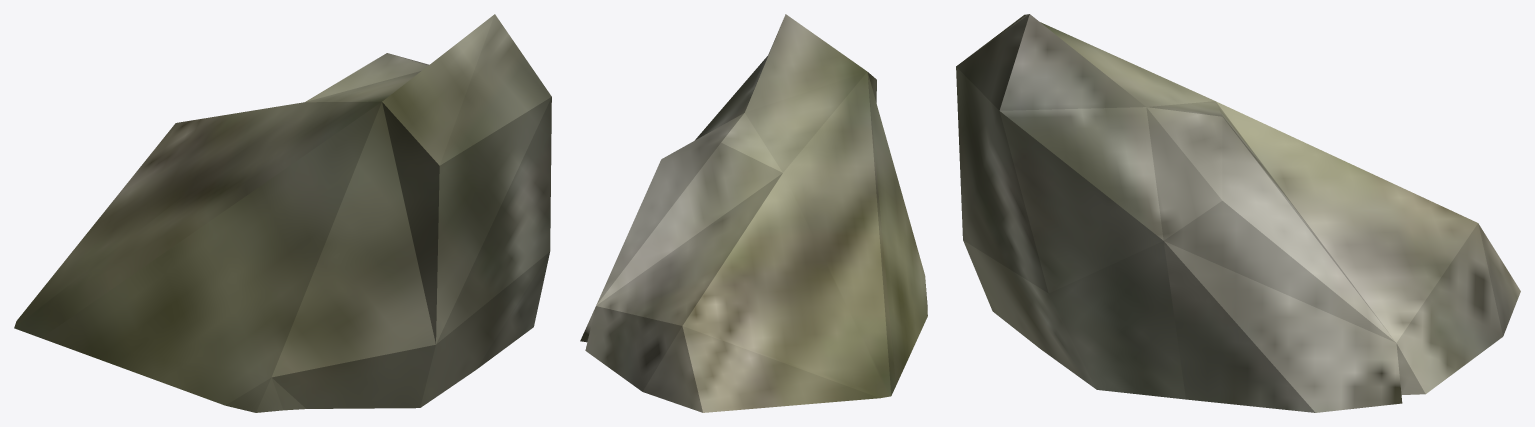
The picture shows the model from 3 angles, left to right: view 1: azimuth 30°, elevation 25°; view 2: azimuth 150°, elevation 25°; view 3: azimuth 270°, elevation 25°; orthographic projection. The views are drawn at different scales.
Bounding box in the file's own units: 0.3929 × 0.3043 × 0.4564.
1 material, 1 textured.
